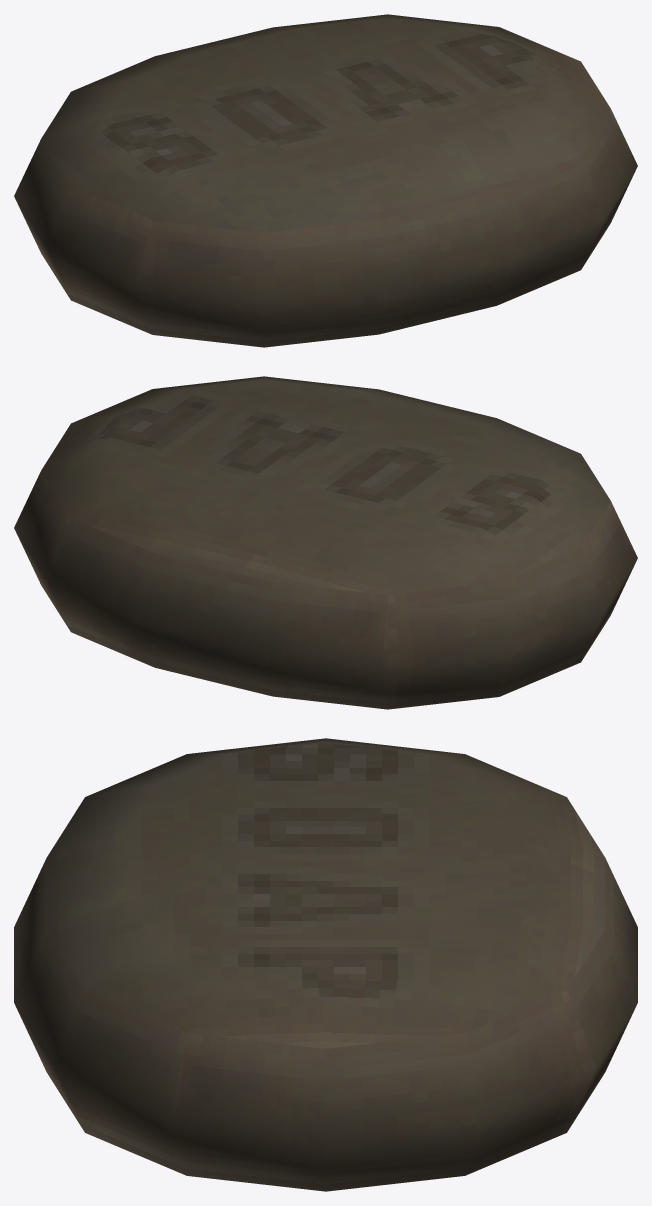
Rendered from soap_mx_1.glb.
3 views of the same model, one above another, from view 1: azimuth 30°, elevation 25°; view 2: azimuth 150°, elevation 25°; view 3: azimuth 270°, elevation 25° (orthographic). The views are drawn at different scales.
Parts seen in each view (by area): view 1: soap_mx_1; view 2: soap_mx_1; view 3: soap_mx_1.
Part boxes in pixels (<box>): soap_mx_1: <box>14,14,637,347</box>; soap_mx_1: <box>14,376,637,709</box>; soap_mx_1: <box>14,738,637,1191</box>.
Size of the model in its own units: 0.1264 by 0.0351 by 0.0983.
Materials: 1 (1 with a texture image).
